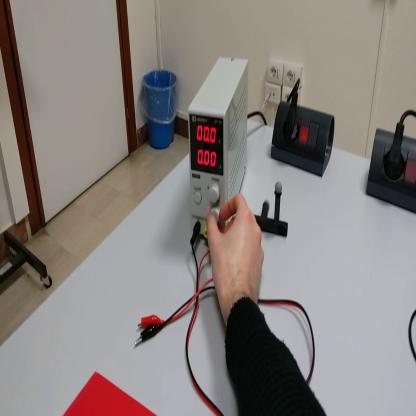hand: (207, 193, 266, 311)
power supply: (189, 61, 250, 242)
register: (63, 371, 155, 414)
socket: (269, 96, 338, 184), (366, 126, 416, 216)
